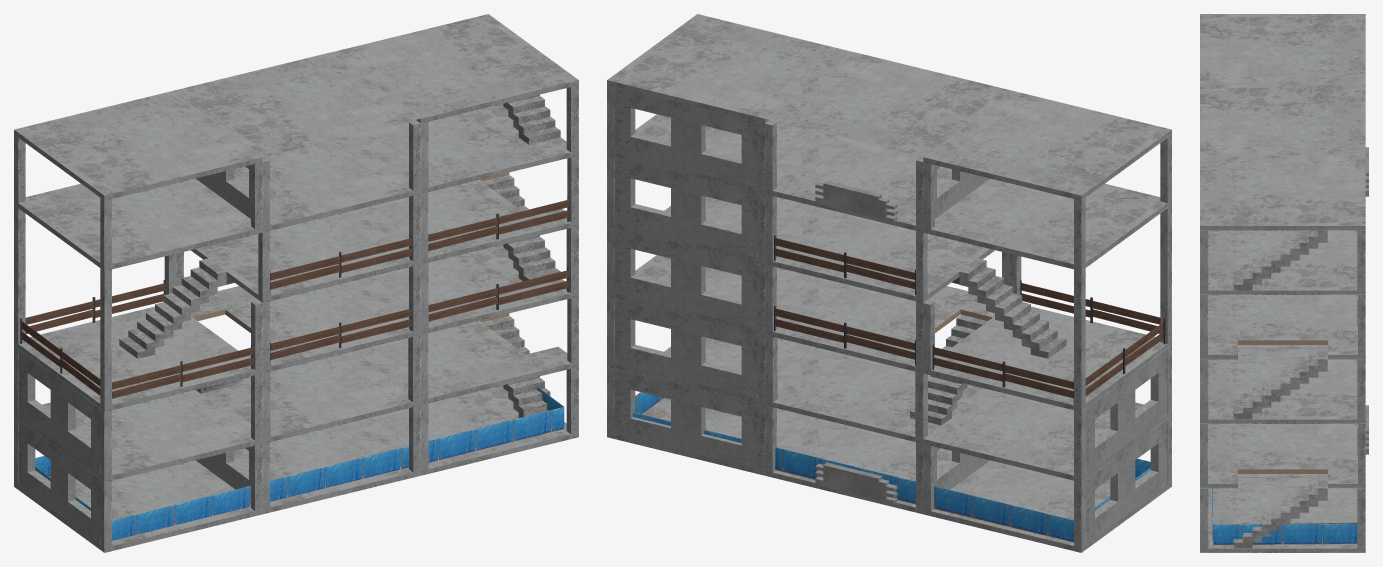
The model's file is CONSTRUCTION.fbx.
3 renders of one model, left to right at view 1: azimuth 30°, elevation 25°; view 2: azimuth 150°, elevation 25°; view 3: azimuth 270°, elevation 25°, orthographic. The views are drawn at different scales.
Visible parts, largest first — view 1: CONSTRUCTION_002, CONSTRUCTION_003, CONSTRUCTION_001; view 2: CONSTRUCTION_002, CONSTRUCTION_003, CONSTRUCTION_001; view 3: CONSTRUCTION_002, CONSTRUCTION_003, CONSTRUCTION_001.
Part boxes in pixels (x1=…): CONSTRUCTION_002: x1=14, y1=14, x2=578, y2=411; CONSTRUCTION_003: x1=14, y1=296, x2=578, y2=552; CONSTRUCTION_001: x1=35, y1=386, x2=564, y2=540; CONSTRUCTION_002: x1=607, y1=14, x2=1171, y2=411; CONSTRUCTION_003: x1=607, y1=296, x2=1171, y2=552; CONSTRUCTION_001: x1=632, y1=392, x2=1150, y2=542; CONSTRUCTION_002: x1=1200, y1=14, x2=1368, y2=423; CONSTRUCTION_003: x1=1200, y1=405, x2=1368, y2=552; CONSTRUCTION_001: x1=1212, y1=488, x2=1357, y2=545.
Size of the model in its own units: 2889 by 2078 by 972.
